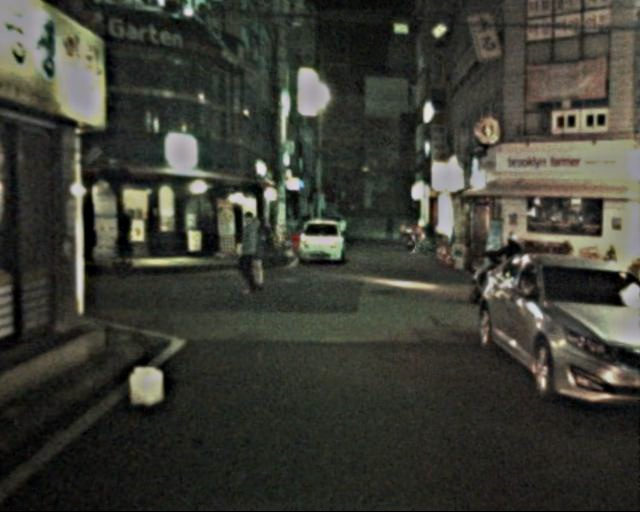person: (231, 211, 266, 296)
